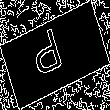P_S: (35, 25, 75, 85)
